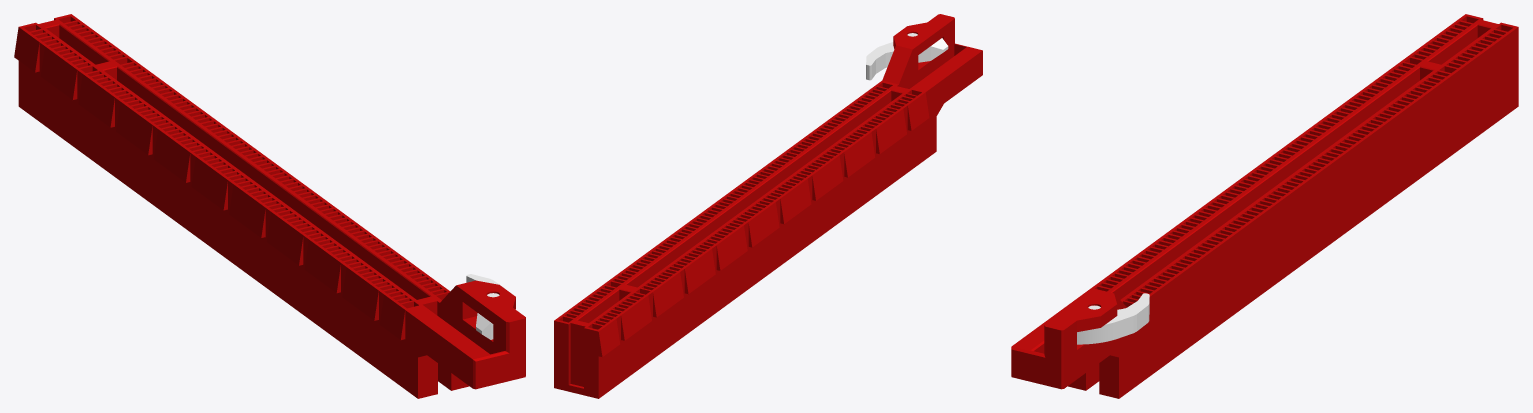
The picture shows the model from 3 angles, left to right: view 1: azimuth 30°, elevation 25°; view 2: azimuth 150°, elevation 25°; view 3: azimuth 330°, elevation 25°; orthographic projection. The views are drawn at different scales.
Visible parts, largest first — view 1: group_0 (×5); view 2: group_0 (×5); view 3: group_0 (×4).
Boxes of the visible parts, x1=… form: group_0 (×5): x1=14, y1=14, x2=525, y2=398; group_0 (×5): x1=554, y1=14, x2=982, y2=398; group_0 (×4): x1=1011, y1=14, x2=1518, y2=398.
Size of the model in its own units: 0.4426 by 4.19 by 0.5531.
